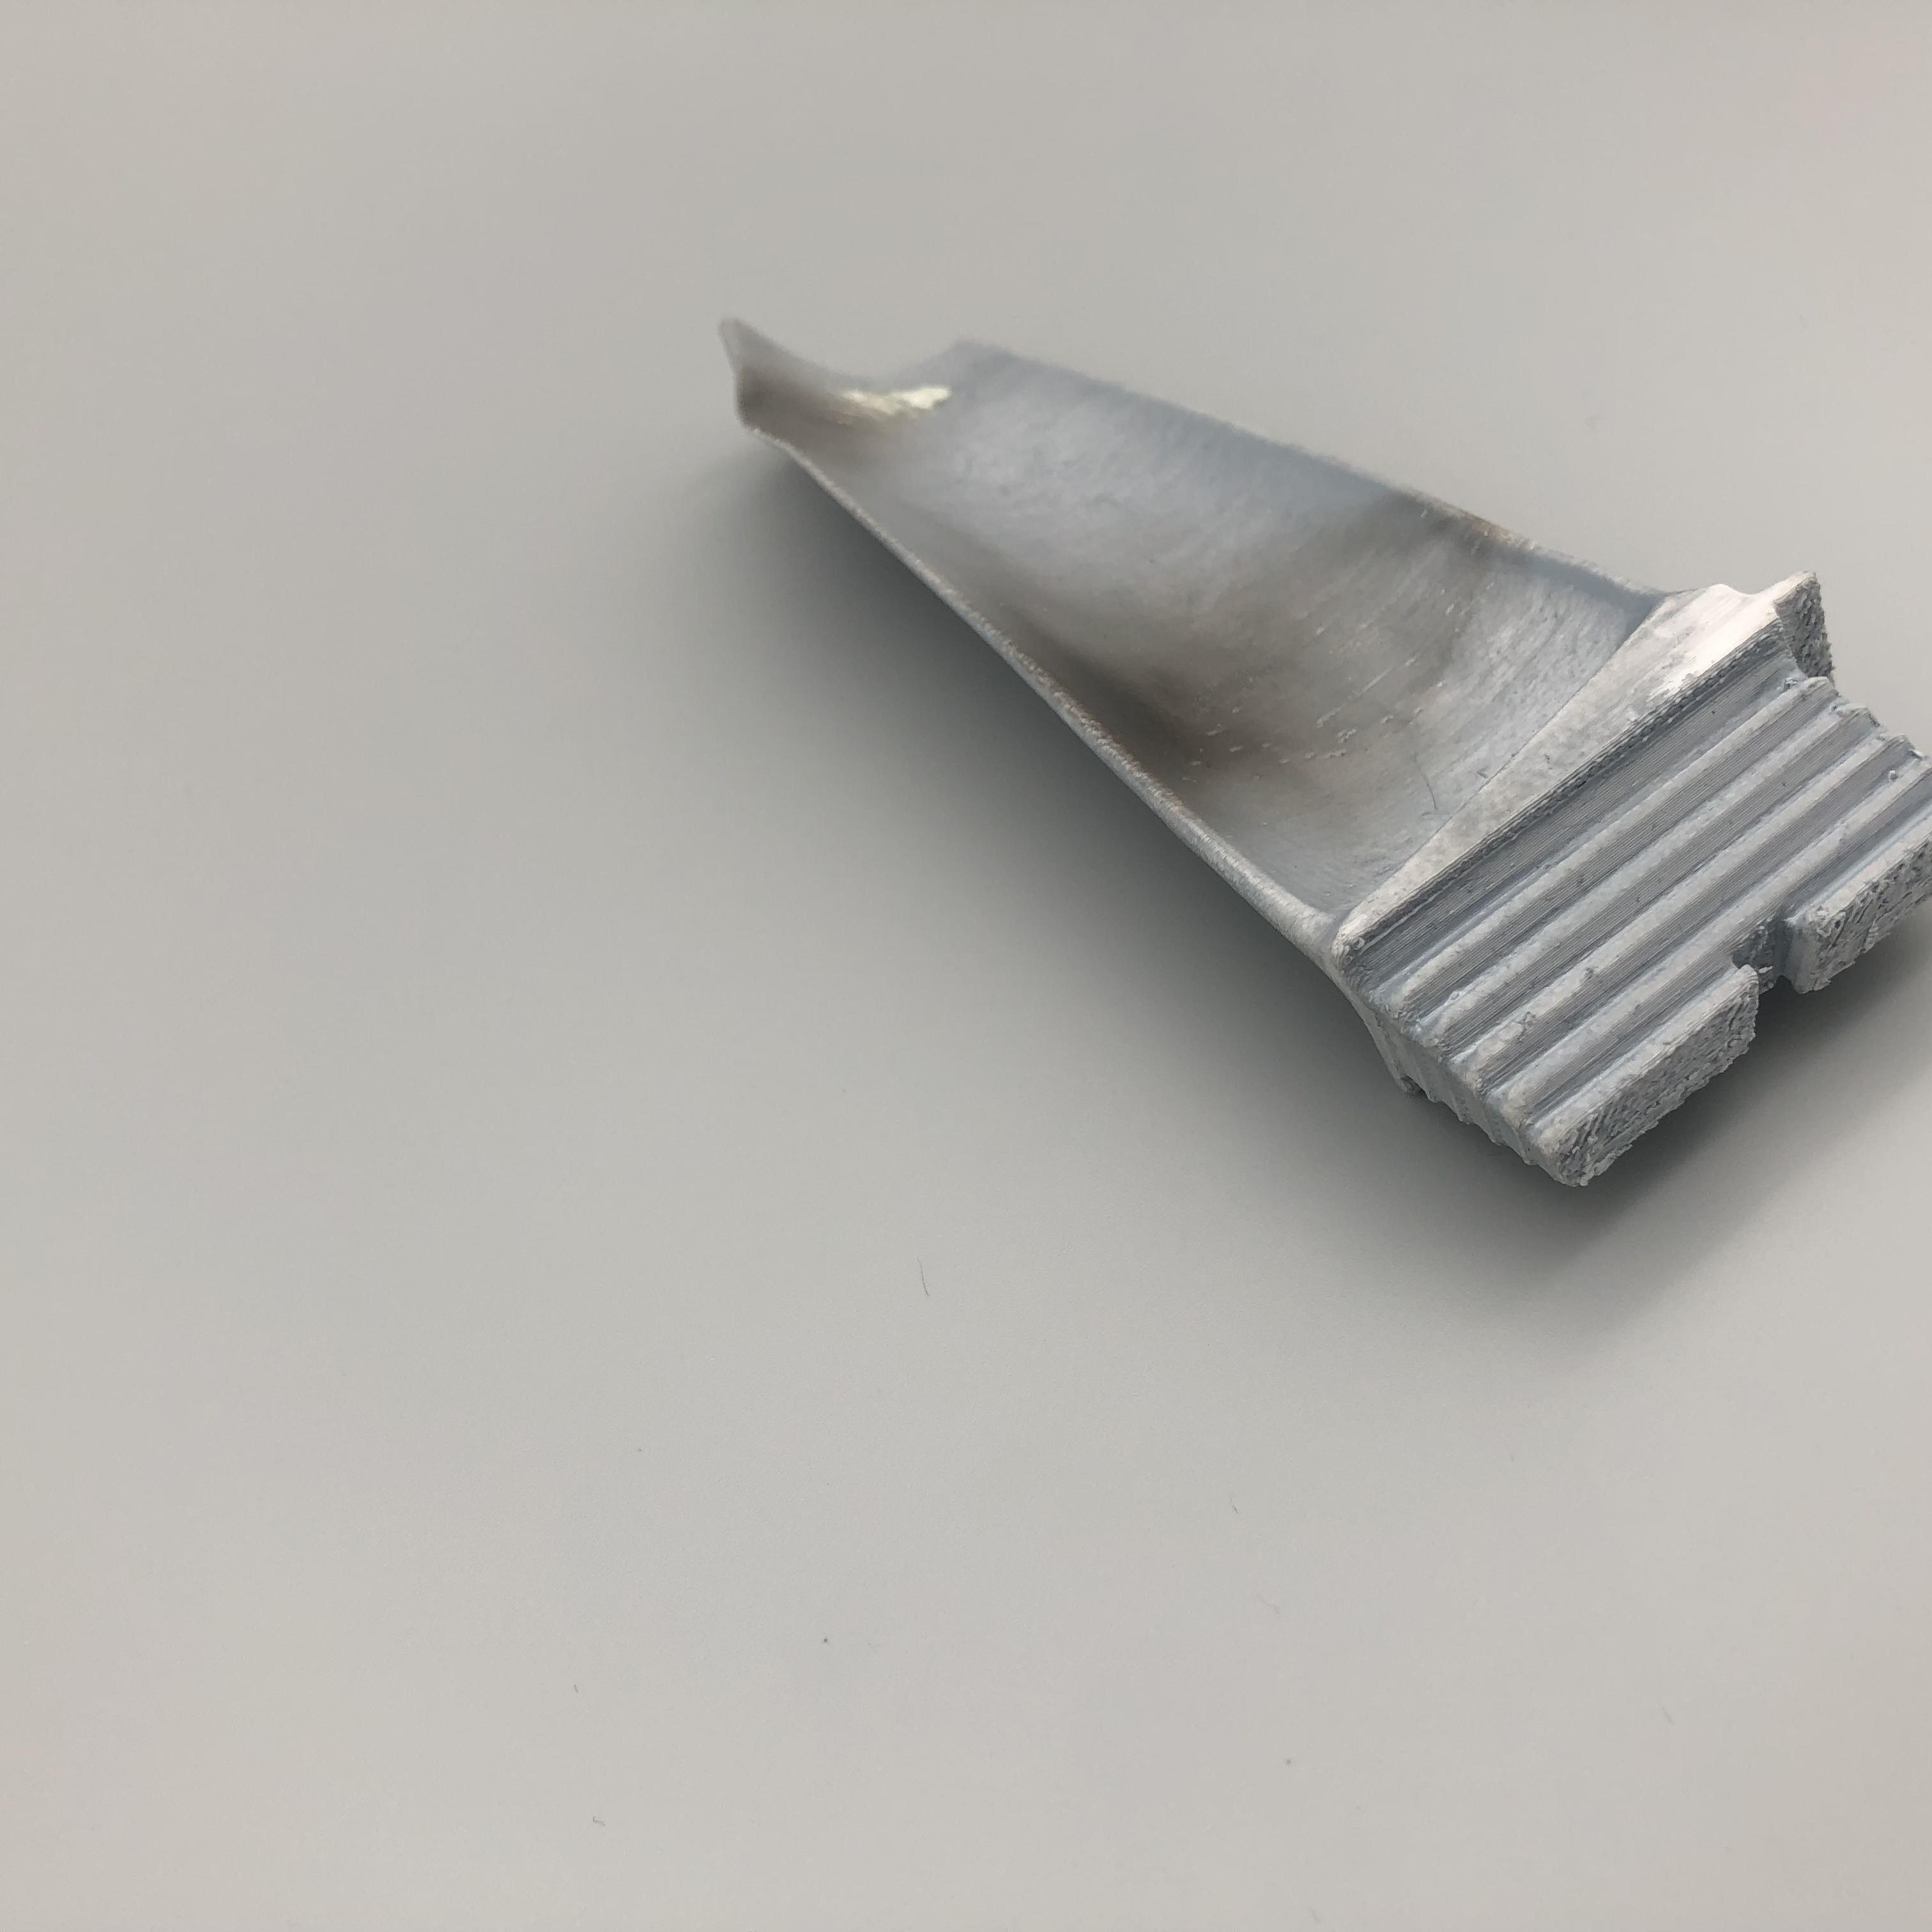ablation: (1063, 609, 1385, 775), (759, 370, 888, 467)
